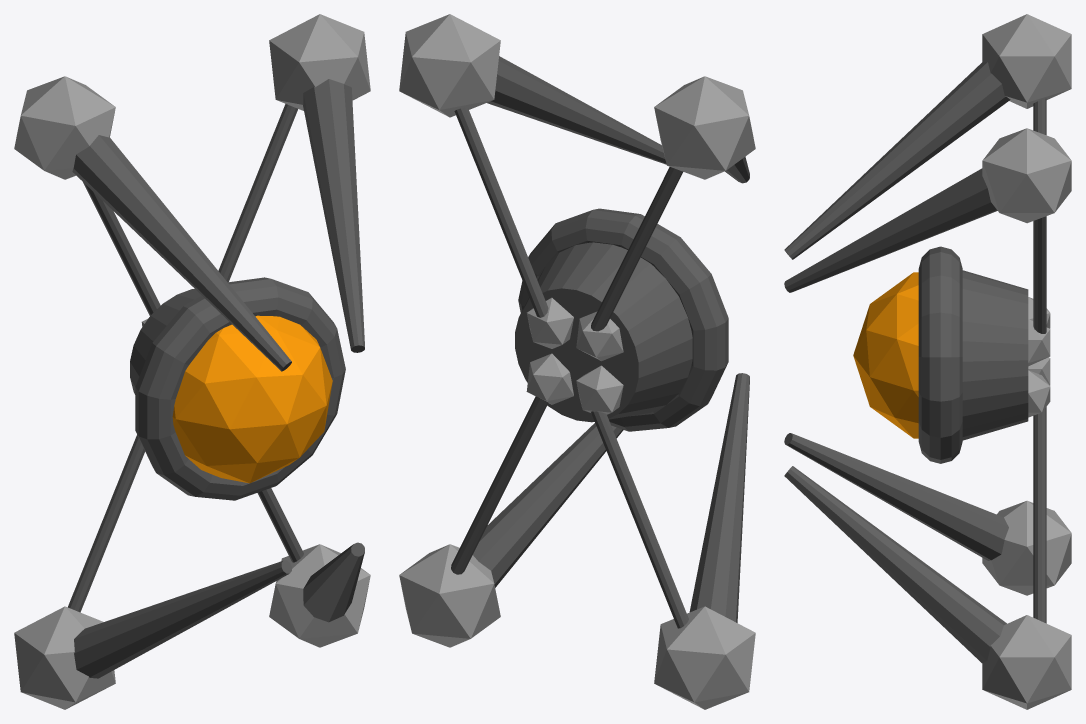
File: mob.glb
3 views of the same model, side by side, from view 1: azimuth 30°, elevation 25°; view 2: azimuth 150°, elevation 25°; view 3: azimuth 270°, elevation 25° (orthographic). The views are drawn at different scales.
Visible parts, largest first — view 1: Icosphere; view 2: Icosphere; view 3: Icosphere.
Boxes of the visible parts, x1,y1,x2,y2 form: Icosphere: (14, 14, 370, 709); Icosphere: (399, 14, 755, 709); Icosphere: (784, 14, 1071, 709).
Size of the model in its own units: 4.16 by 7.34 by 3.29.
